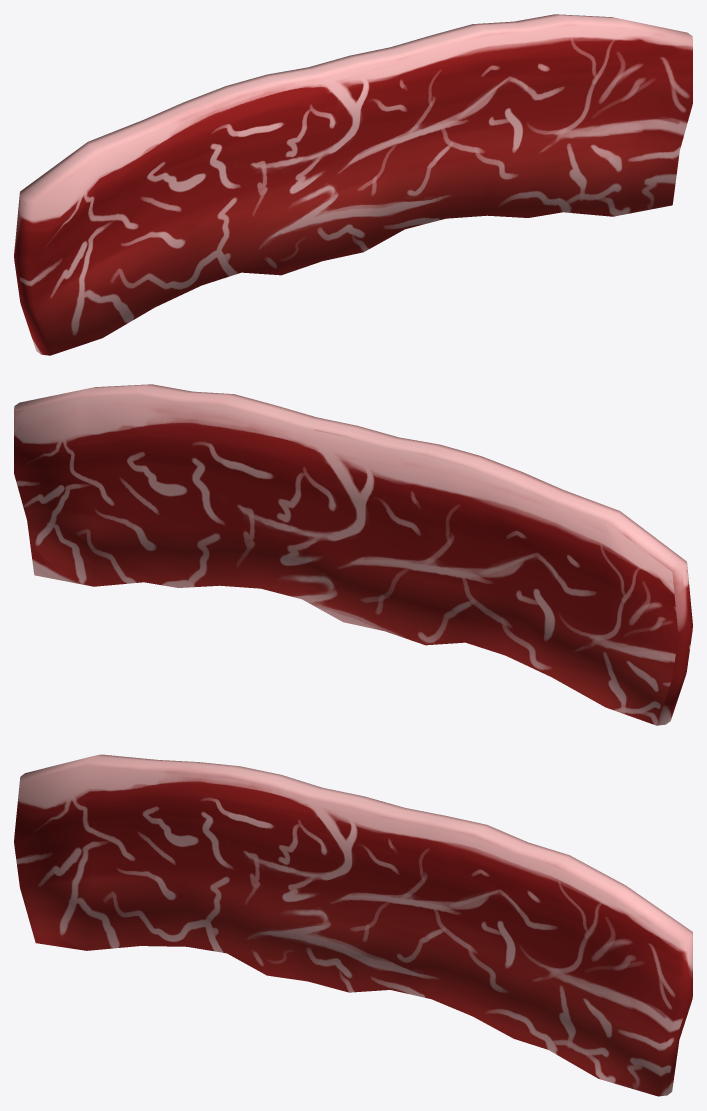
The model's file is prime_la_galbi.fbx.
3 renders of one model, top to bottom at view 1: azimuth 30°, elevation 25°; view 2: azimuth 150°, elevation 25°; view 3: azimuth 330°, elevation 25°, orthographic.
Parts seen in each view (by area): view 1: prime_la_galbi; view 2: prime_la_galbi; view 3: prime_la_galbi.
Boxes of the visible parts, x1,y1,x2,y2 form: prime_la_galbi: [14, 14, 692, 355]; prime_la_galbi: [14, 384, 692, 725]; prime_la_galbi: [14, 754, 692, 1096].
Bounding box in the file's own units: 82.57 × 25.63 × 3.21.
